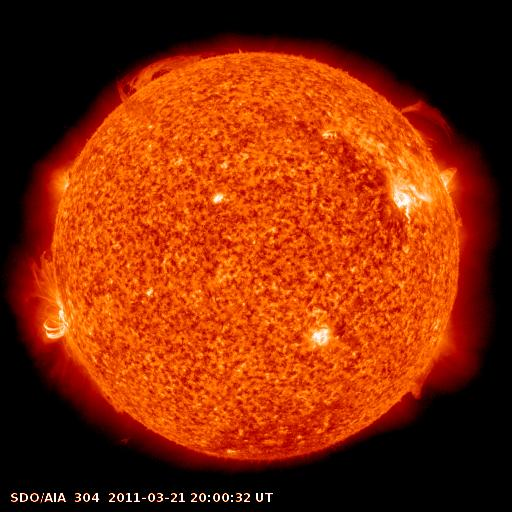prominence: (110, 48, 220, 109), (389, 90, 463, 150), (399, 358, 442, 407)
